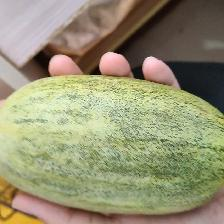gua: (34, 88, 182, 188)
